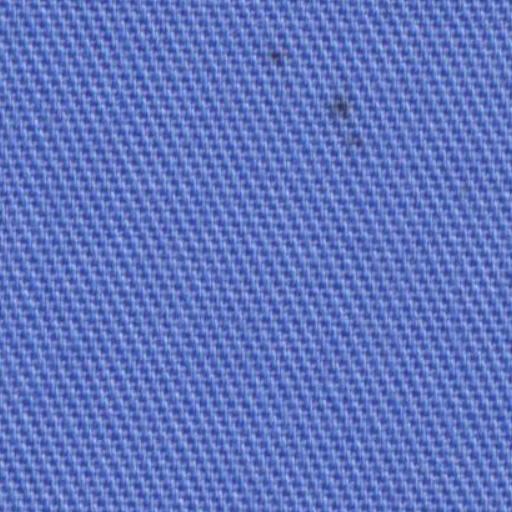WuZi: (320, 83, 380, 156), (252, 34, 298, 82)
